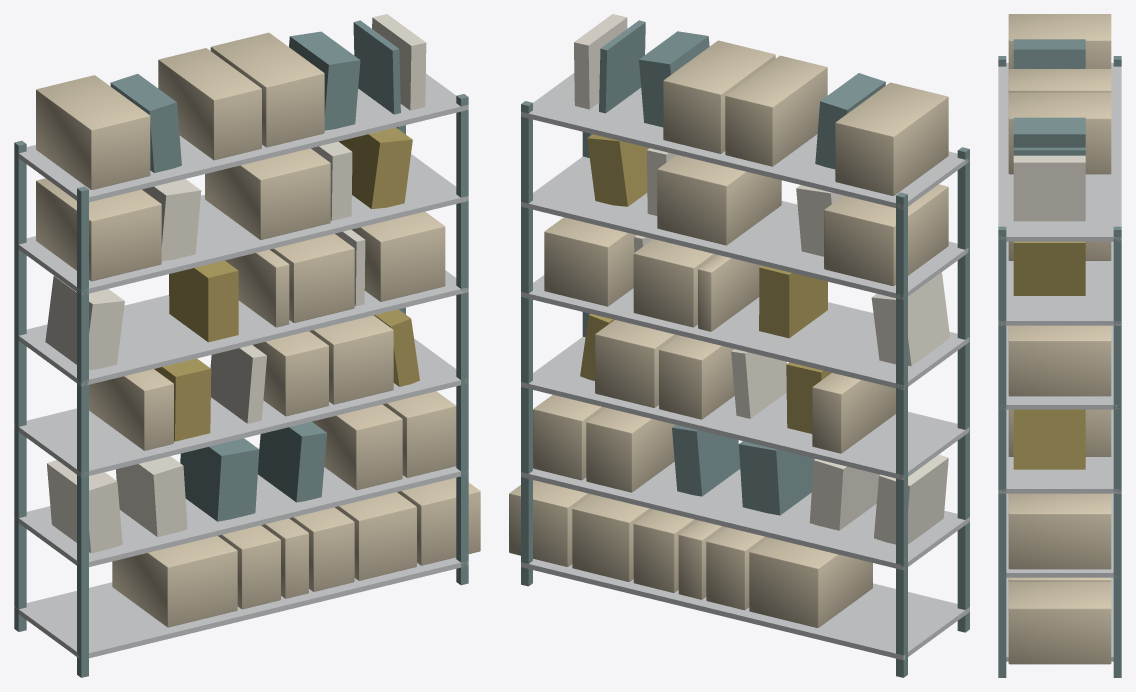
The model's file is archive_shelf.glb.
The picture shows the model from 3 angles, left to right: view 1: azimuth 30°, elevation 25°; view 2: azimuth 150°, elevation 25°; view 3: azimuth 270°, elevation 25°; orthographic projection. The views are drawn at different scales.
Visible parts, largest first — view 1: archive_shelf; view 2: archive_shelf; view 3: archive_shelf.
Boxes of the visible parts, x1,y1,x2,y2 form: archive_shelf: [14, 14, 480, 677]; archive_shelf: [509, 14, 969, 677]; archive_shelf: [998, 14, 1121, 677].
Size of what is drawn, in the model's own units: 2.09 by 2.69 by 0.6.
